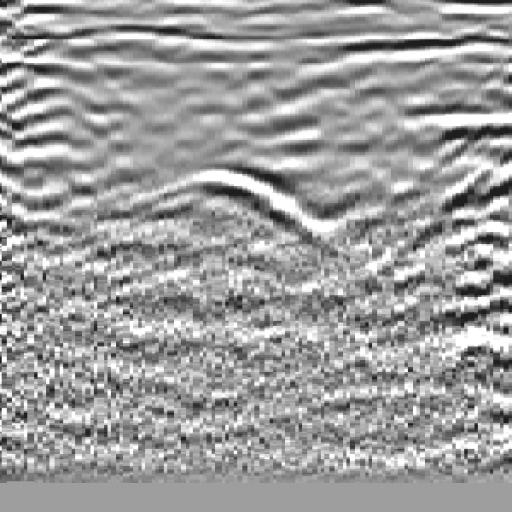metalic: (127, 131, 353, 279)
